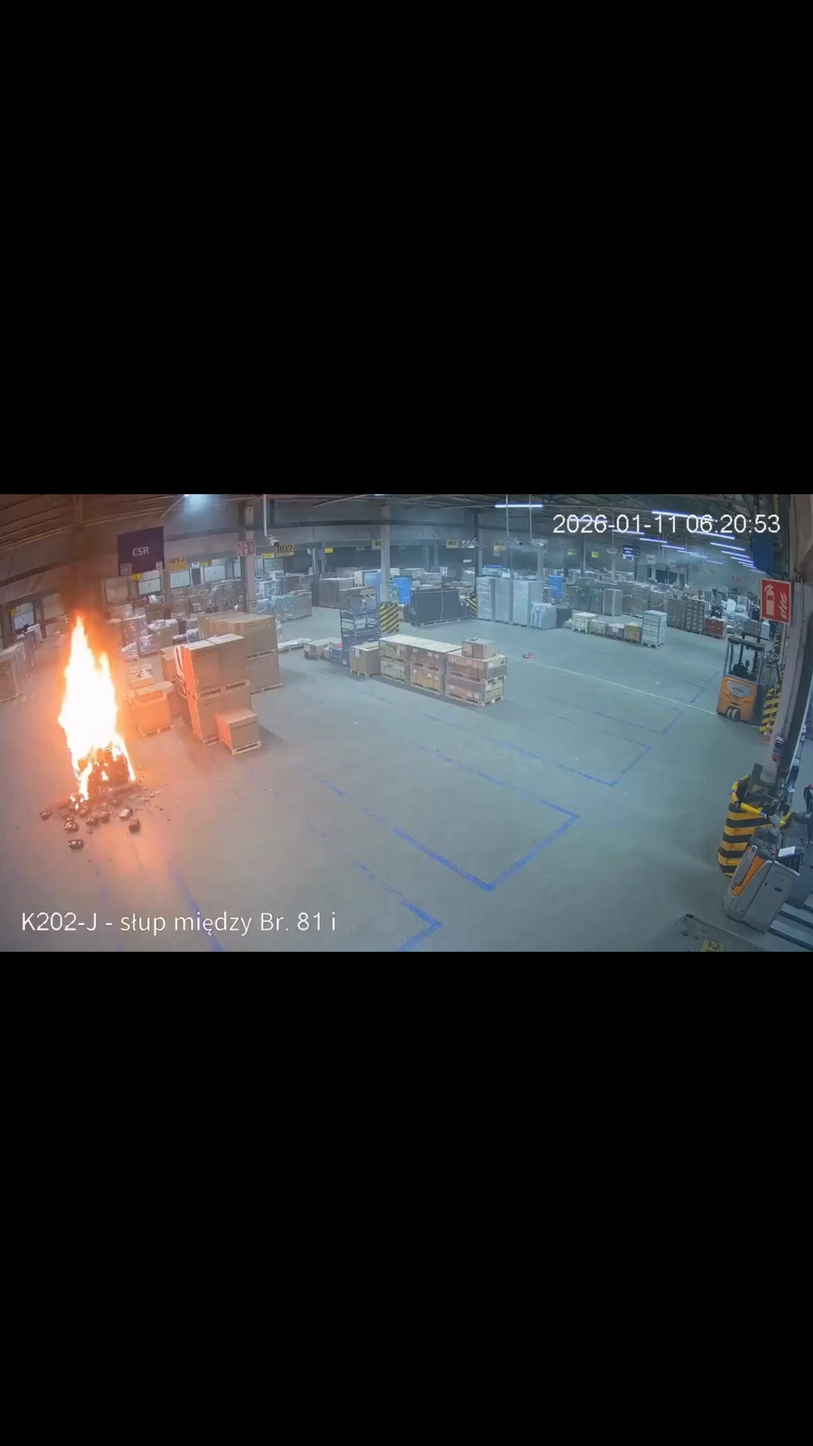fire: (57, 612, 139, 810)
smoke: (36, 500, 129, 639)
